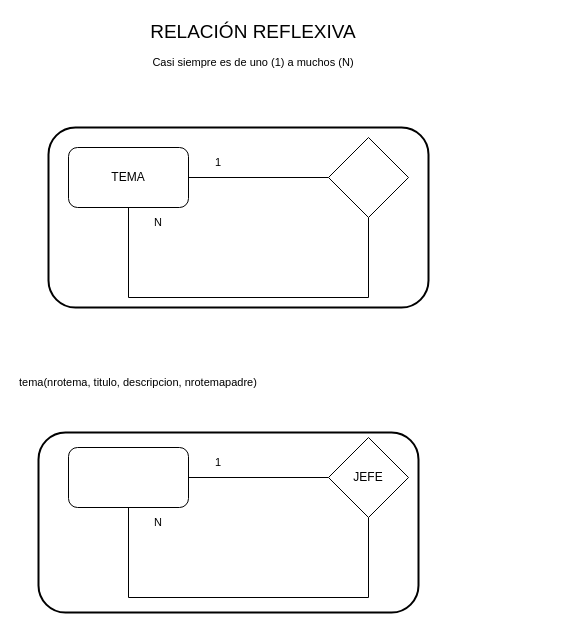
This 564x630 diagram has some shape labels left out. The shapes that lost their labels are listed below. From the top down, each one's box as (x1, y1, x2, y2) in pixels, then its label:
(328, 136, 408, 218): COMPONE
(68, 446, 188, 508): EMPLEADO
